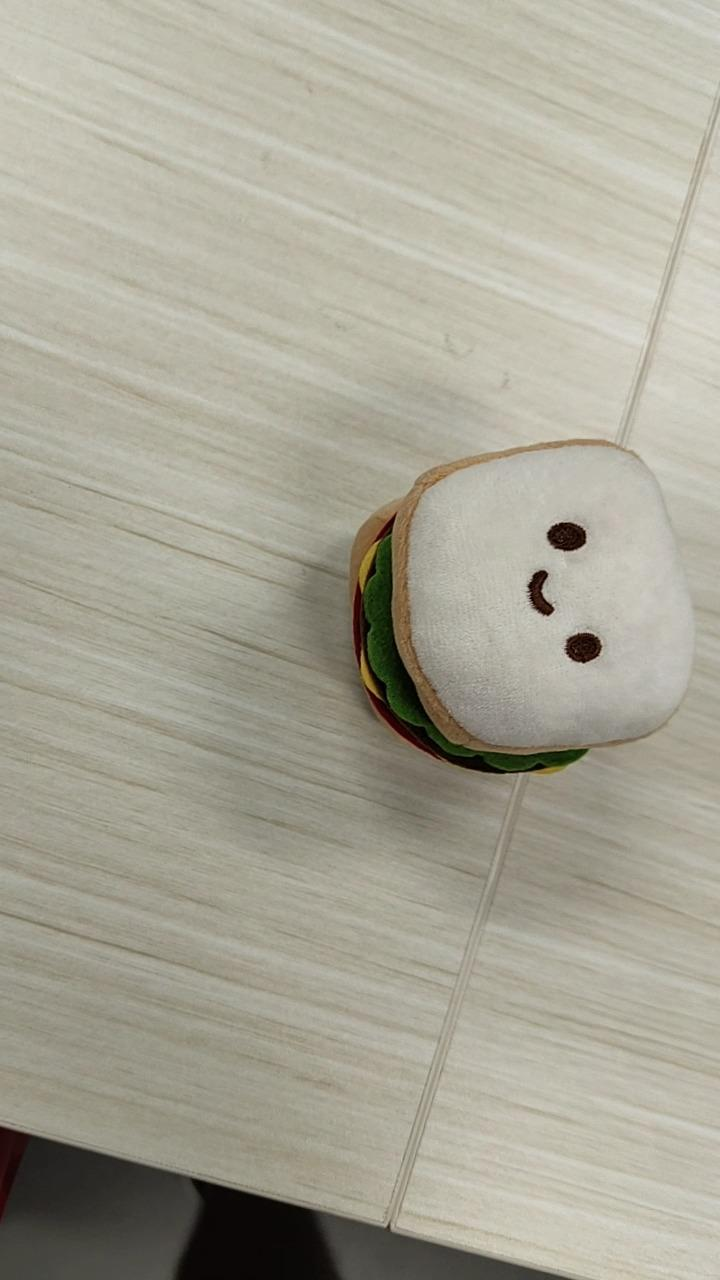objects: (347, 435, 695, 777)
